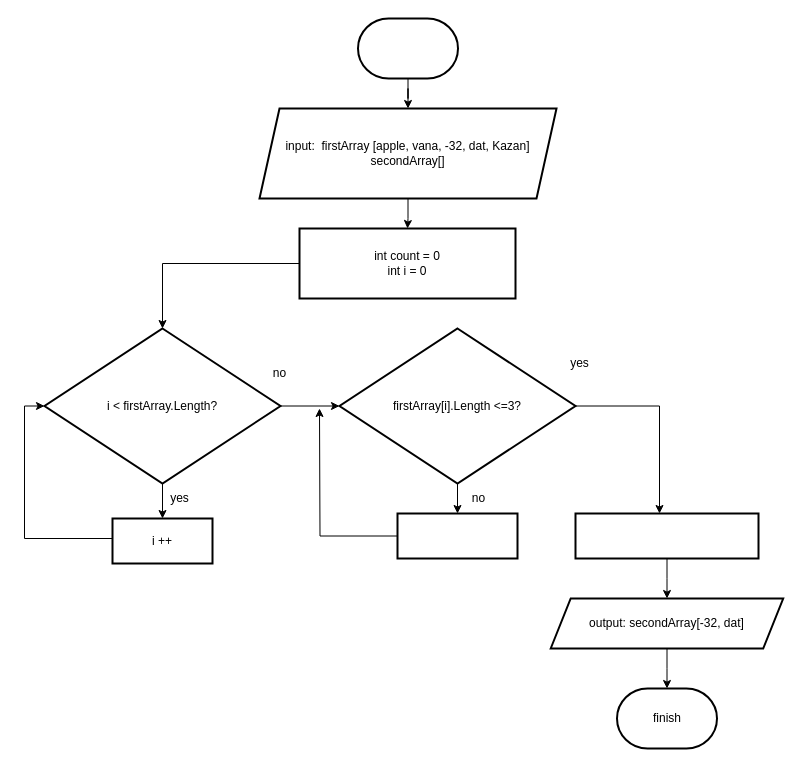
The diagram is 802 pixels wide and 766 high, and some of its shapes have lost their labels. Here are the shapes that lost their labels. From the top down, the box of each, then its label:
(356, 17, 458, 79): start
(396, 512, 518, 559): count++ index ++
(574, 512, 759, 559): secondArray = [count] secondArray[index] = firstArray[i]
